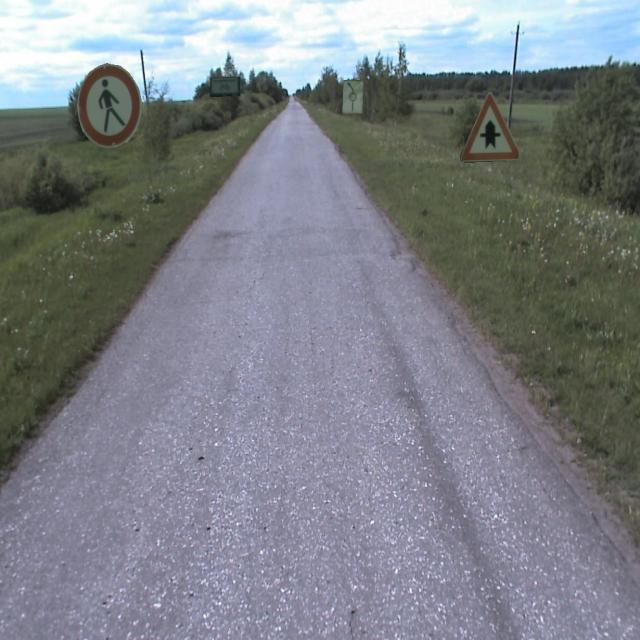road: (0, 101, 639, 639)
